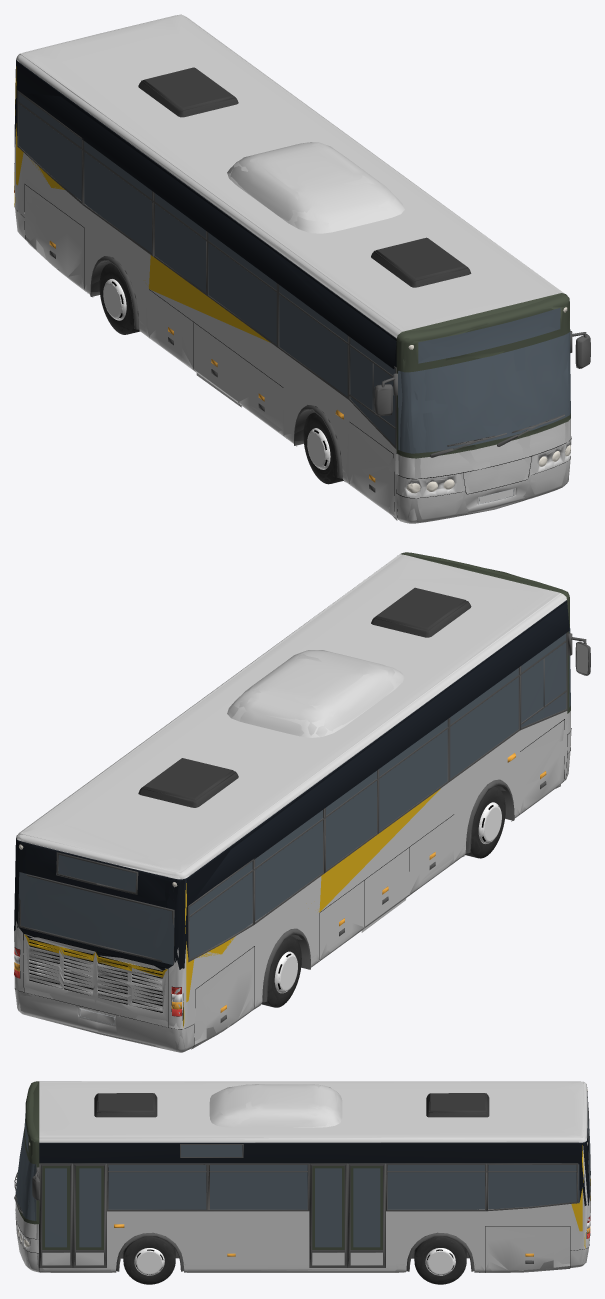
Rendered from bus.glb.
3 renders of one model, top to bottom at view 1: azimuth 30°, elevation 25°; view 2: azimuth 150°, elevation 25°; view 3: azimuth 270°, elevation 25°, orthographic. The views are drawn at different scales.
Visible parts, largest first — view 1: body, body_lod, wheel_RR, wheel_FR; view 2: body, body_lod, wheel_FR, wheel_RR, wheel_FR_lod, wheel_RR_lod; view 3: body, body_lod, wheel_FL, wheel_RL, wheel_FL_lod, wheel_RL_lod.
Part boxes in pixels (x1,y1,x2,y2): body: [14, 15, 590, 523]; body_lod: [14, 14, 590, 522]; wheel_RR: [99, 263, 139, 334]; wheel_FR: [303, 412, 343, 483]; body: [14, 552, 590, 1052]; body_lod: [14, 553, 590, 1052]; wheel_FR: [465, 786, 505, 858]; wheel_RR: [261, 936, 301, 1007]; wheel_FR_lod: [471, 787, 505, 858]; wheel_RR_lod: [267, 936, 301, 1007]; body: [14, 1081, 590, 1274]; body_lod: [15, 1081, 590, 1272]; wheel_FL: [123, 1236, 175, 1284]; wheel_RL: [414, 1236, 466, 1284]; wheel_FL_lod: [123, 1237, 175, 1284]; wheel_RL_lod: [414, 1237, 466, 1284].
Bounding box in the file's own units: 3.32 × 3.31 × 10.8.
